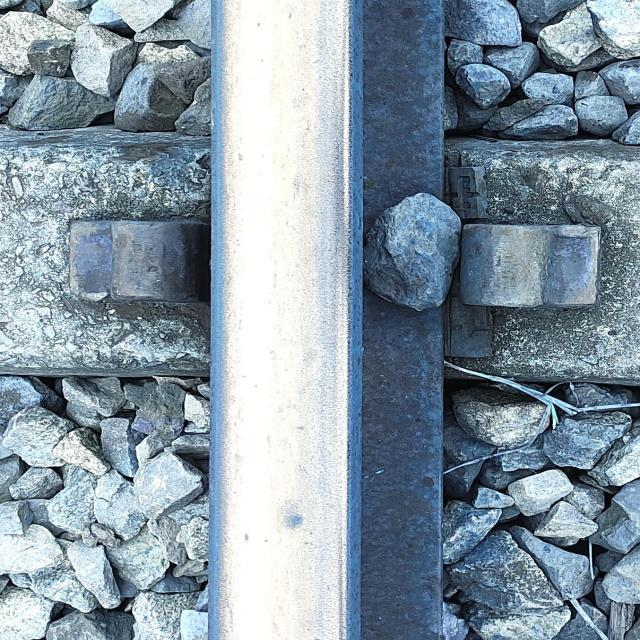Missing Fastener: (444, 196, 625, 326), (50, 204, 198, 326)
